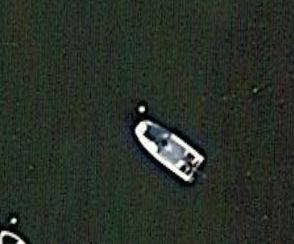boat: (133, 119, 208, 186)
